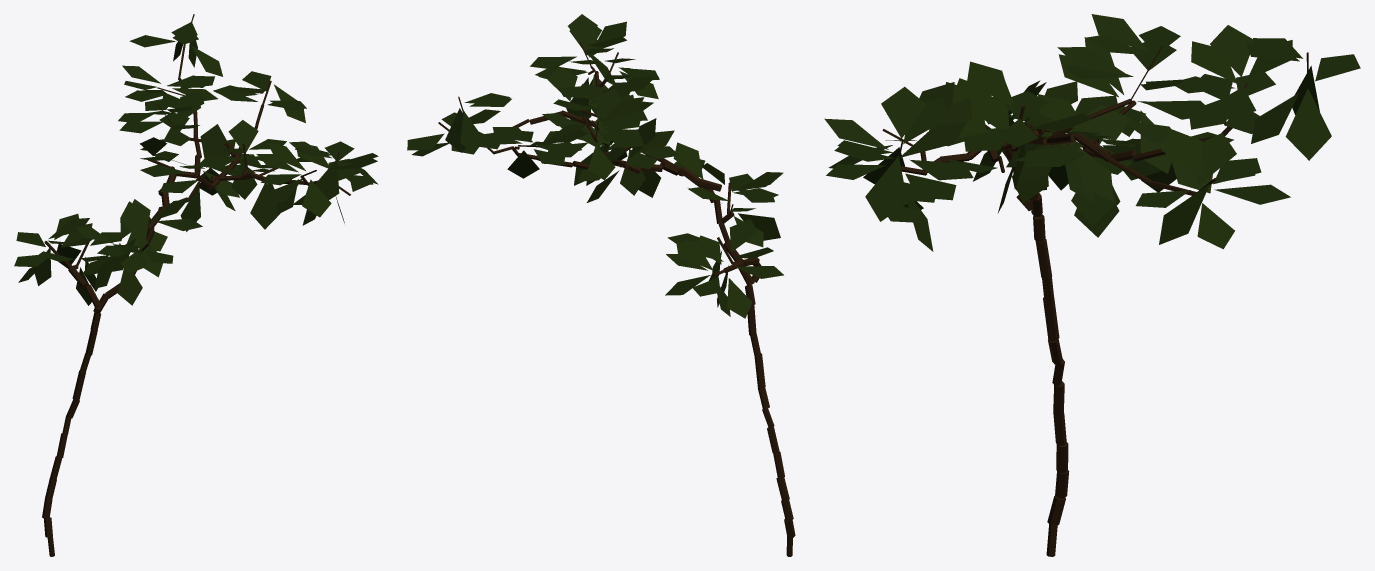
File: tree_486.obj
The picture shows the model from 3 angles, left to right: view 1: azimuth 30°, elevation 25°; view 2: azimuth 150°, elevation 25°; view 3: azimuth 270°, elevation 25°; orthographic projection. The views are drawn at different scales.
Visible parts, largest first — view 1: Leaves, TrunkAndBranches; view 2: Leaves, TrunkAndBranches; view 3: Leaves, TrunkAndBranches.
Boxes of the visible parts, x1,y1,x2,y2 form: Leaves: (14,21,378,305); TrunkAndBranches: (42,14,350,556); Leaves: (407,14,783,318); TrunkAndBranches: (438,42,795,556); Leaves: (824,14,1360,251); TrunkAndBranches: (882,45,1308,556).
Size of the model in its own units: 2.18 by 2.86 by 2.06.
